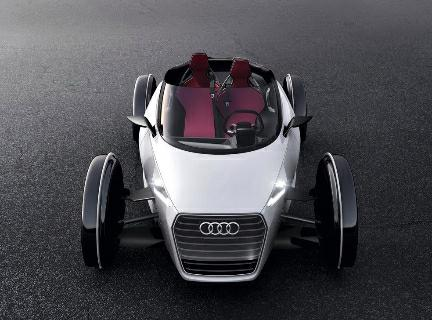奥迪-Urban: (71, 52, 369, 287)
